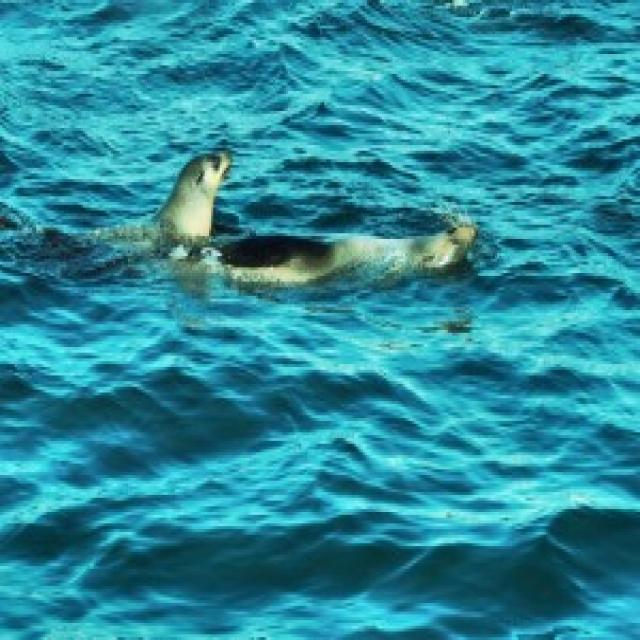Seal: (240, 203, 489, 290), (119, 146, 234, 248)
